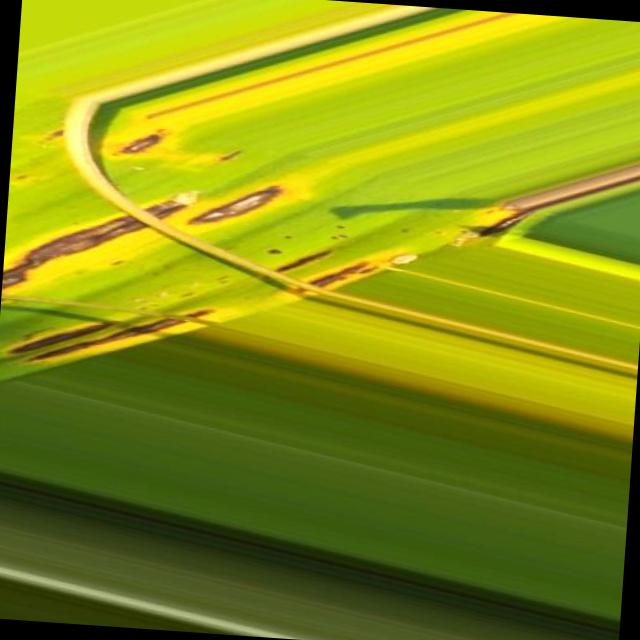Banana_Yellow_Sigatoka: (2, 147, 392, 400)
